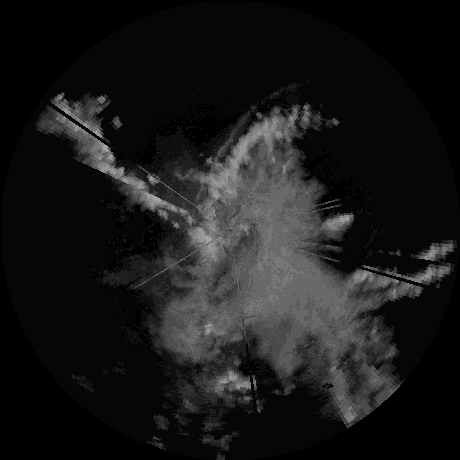frontgust: (217, 105, 250, 157), (194, 182, 205, 203)
